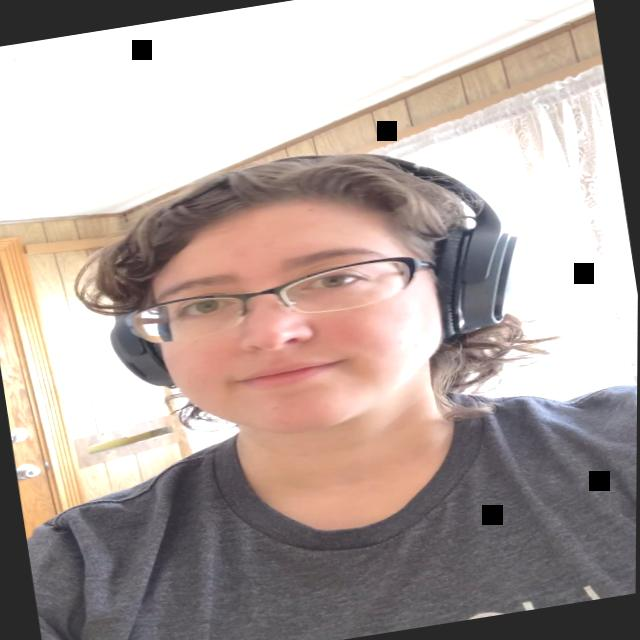NO-Mask: (136, 172, 457, 456)
